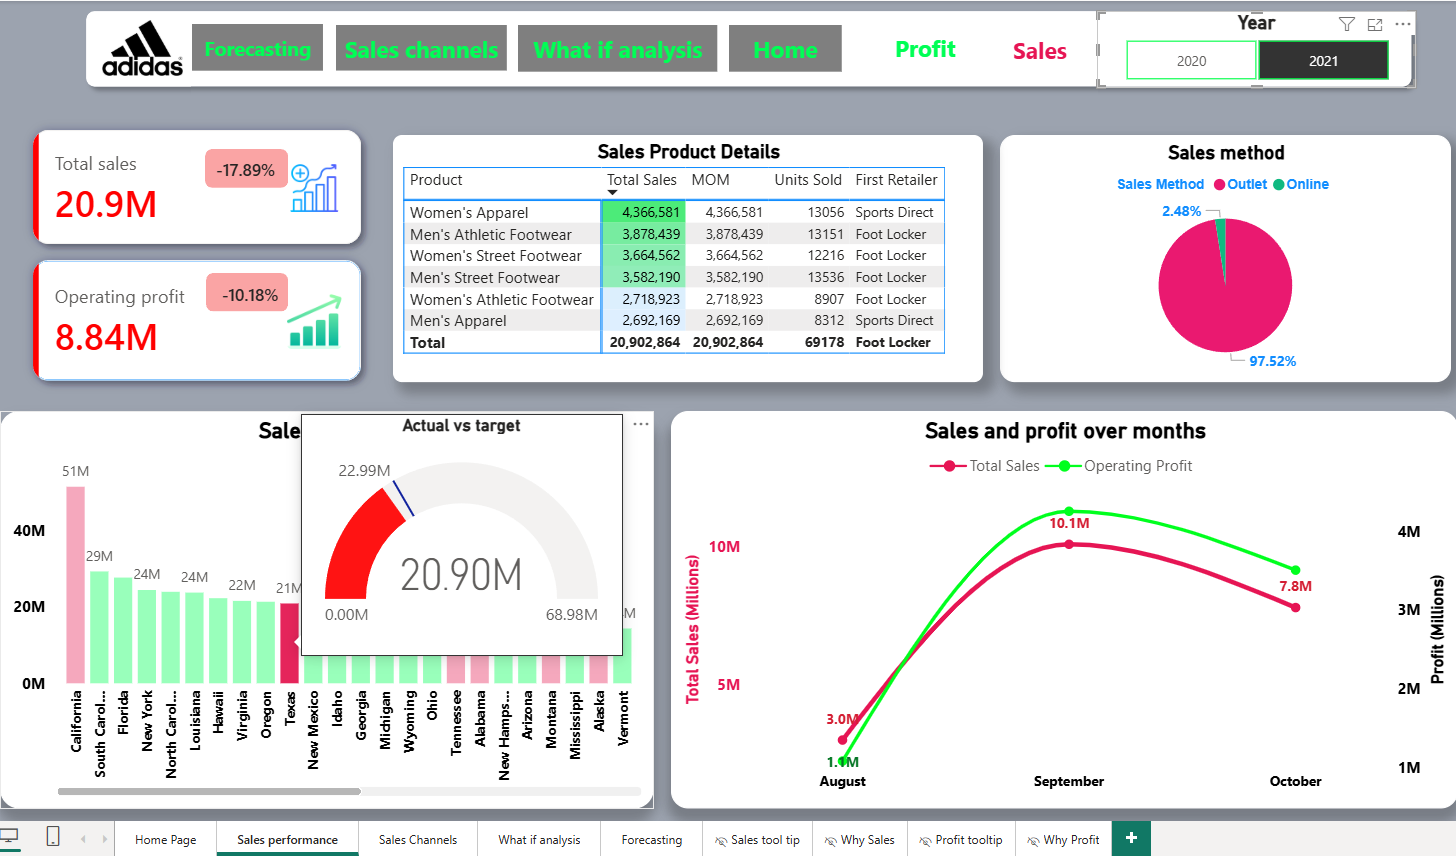

The dashboard page shown, as its layout file describes it:
{"tool":"powerbi","page":{"name":"Sales performance","canvas":[1280,720],"ordinal":1},"visuals":[{"type":"shape","title":"Navigation bar","box":[66.6,0,1181.4,84],"z":0},{"type":"cardVisual","title":"Total sales","fields":{"Data":["Sum(Data.Total Sales)"]},"box":[0,84,346,158.9],"z":1000},{"type":"cardVisual","fields":{"Data":["Sum(Data.Operating Profit)"]},"box":[0,198.1,346,164.3],"z":2000},{"type":"shape","box":[180.2,130.1,73,34.2],"z":3000},{"type":"cardVisual","fields":{"Data":["Data.Dynamic_Growth_Status"]},"box":[154,117.5,124.3,58.2],"z":4000},{"type":"slicer","title":"Year","fields":{"Values":["Date.Date.Variation.Date Hierarchy.Year"]},"box":[963,9.2,280.4,66.9],"z":5000},{"type":"shape","box":[180.8,239.2,72.1,33.8],"z":6000},{"type":"cardVisual","fields":{"Data":["Data.Dynamic_Growth_profit"]},"box":[154.3,226.7,130.5,59],"z":7000},{"type":"lineChart","title":"Sales and profit over months","fields":{"Category":["Date.Date.Variation.Date Hierarchy.Year","Date.Date.Variation.Date Hierarchy.Month"],"Y":["Sum(Data.Total Sales)"],"Y2":["Sum(Data.Operating Profit)"]},"box":[589.2,360,691,349.5],"z":8000},{"type":"pieChart","title":"Profit method","fields":{"Category":["Data.Sales Method"],"Y":["Sum(Data.Operating Profit)"]},"box":[893,112.4,387.2,222.1],"z":11000},{"type":"pivotTable","title":"Profit Product Details","fields":{"Rows":["Data.Product"],"Values":["Sum(Data.Operating Profit)","Data.profit mom","Sum(Data.Units Sold)","Min(Data.Retailer)"]},"box":[335.4,112.5,537.4,221.8],"z":12000},{"type":"columnChart","title":"Profit by State","fields":{"Category":["Data.State"],"Y":["Sum(Data.Operating Profit)"]},"box":[6.1,360,576,349.5],"z":13000},{"type":"actionButton","box":[863.1,22.9,99.9,39.4],"z":14000},{"type":"actionButton","box":[762.3,20.2,100.8,41.2],"z":15000},{"type":"actionButton","title":"Home","box":[640.5,21.1,99,41.2],"z":16000},{"type":"actionButton","box":[454.5,21.1,175,41.2],"z":17000},{"type":"actionButton","box":[295,21.1,150.3,40.3],"z":18000},{"type":"actionButton","box":[168.6,20.2,115.4,41.2],"z":20000},{"type":"image","box":[81.5,16.5,87,48.6],"z":21000}]}

Visuals, with their boxes on the page's 1280x720 design canvas (x1, y1, x2, y2). These are canvas units, not pixel positions in the 1456x856 screenshot, which may show the page scaled, cropped or inside an application window:
"Navigation bar" shape: (x1=67, y1=0, x2=1248, y2=84)
"Total sales" cardVisual: (x1=0, y1=84, x2=346, y2=243)
cardVisual - Sum(Data.Operating Profit): (x1=0, y1=198, x2=346, y2=362)
shape: (x1=180, y1=130, x2=253, y2=164)
cardVisual - Data.Dynamic_Growth_Status: (x1=154, y1=118, x2=278, y2=176)
"Year" slicer: (x1=963, y1=9, x2=1243, y2=76)
shape: (x1=181, y1=239, x2=253, y2=273)
cardVisual - Data.Dynamic_Growth_profit: (x1=154, y1=227, x2=285, y2=286)
"Sales and profit over months" lineChart: (x1=589, y1=360, x2=1280, y2=710)
"Profit method" pieChart: (x1=893, y1=112, x2=1280, y2=334)
"Profit Product Details" pivotTable: (x1=335, y1=112, x2=873, y2=334)
"Profit by State" columnChart: (x1=6, y1=360, x2=582, y2=710)
actionButton: (x1=863, y1=23, x2=963, y2=62)
actionButton: (x1=762, y1=20, x2=863, y2=61)
"Home" actionButton: (x1=640, y1=21, x2=740, y2=62)
actionButton: (x1=454, y1=21, x2=630, y2=62)
actionButton: (x1=295, y1=21, x2=445, y2=61)
actionButton: (x1=169, y1=20, x2=284, y2=61)
image: (x1=82, y1=16, x2=168, y2=65)
